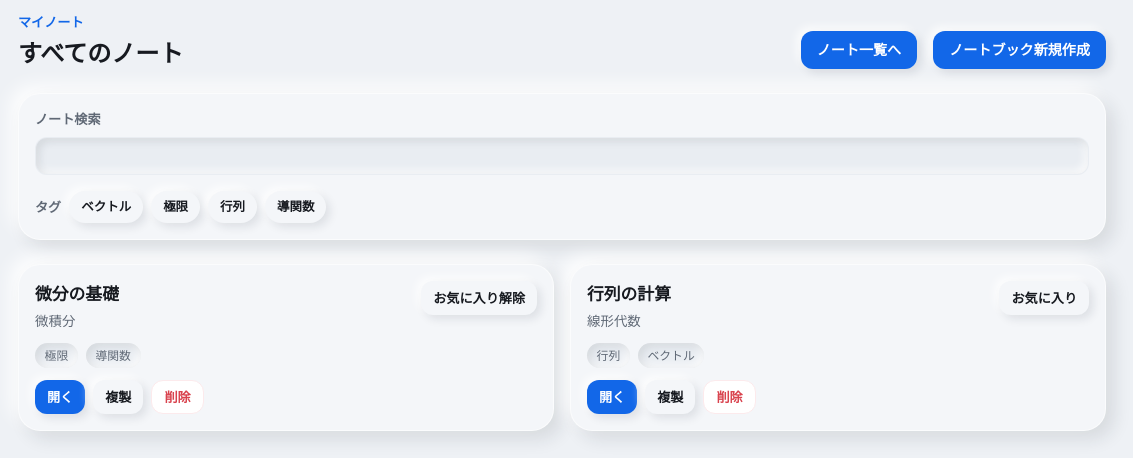
it: HomePage › ログイン済みはノート一覧と検索を表示する
In the field with test id "home-note-search": (562, 156) 35,137 -> 1089,175, type "行列"
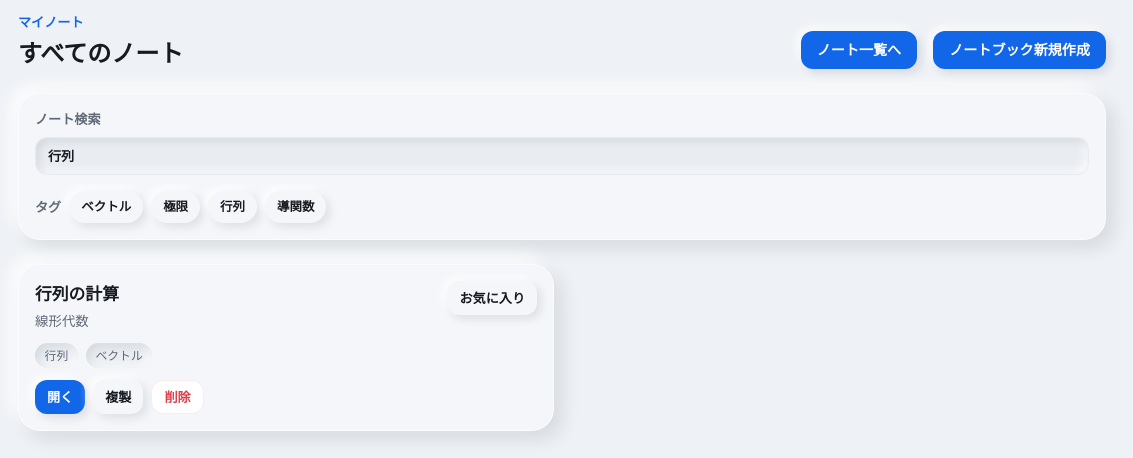
Expected: the text "行列の計算" is shown, 35,281 -> 119,307
Expected: the text "微分の基礎" is gone
